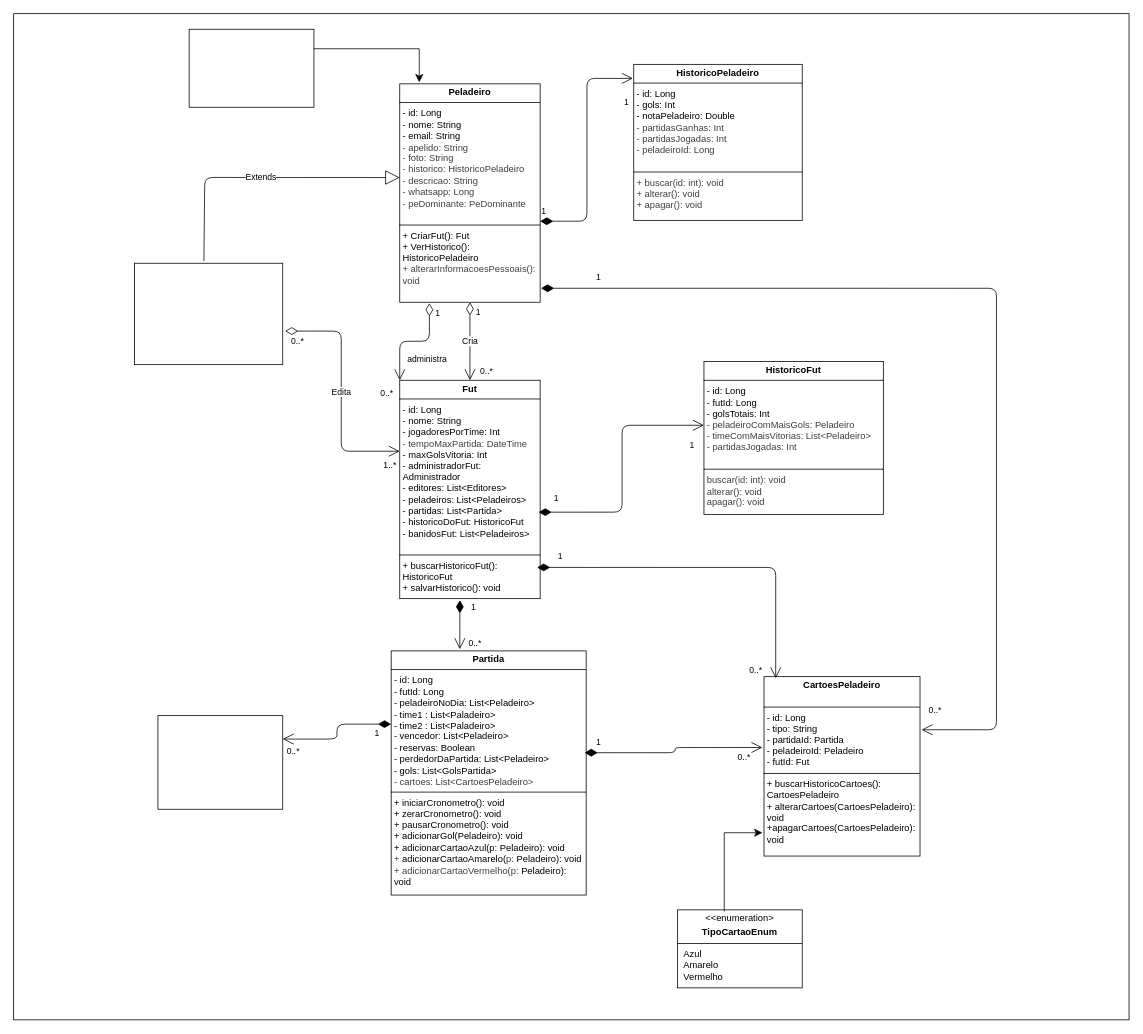
Some shapes in this 1143 by 1034 pixel diagram are drawn without their labels. Each missing label, with the box of its shape:
<<enumeration> PeDominanteEnum Canhoto Destro Ambidestro: (188, 28, 314, 107)
Editor + iniciarPartidas() + adicionarPeladeiros(p: Peladeiro): void: (134, 262, 283, 365)
GolsPartida - id: Long - partidaId: Long - peladeroId: Long: (157, 715, 283, 809)
